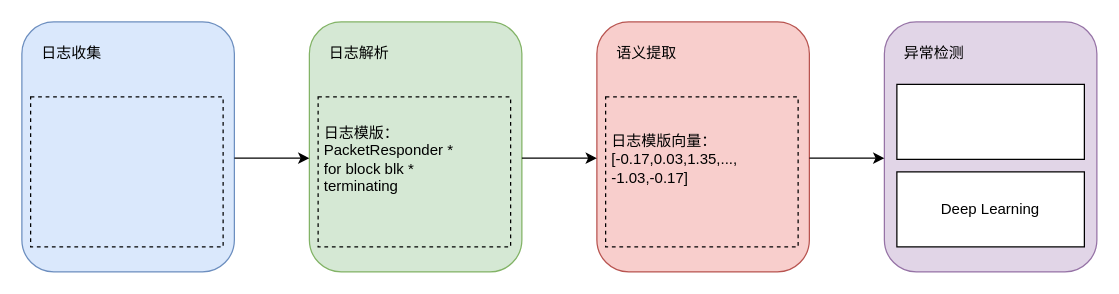
The diagram is 1119 pixels wide and 294 high, and some of its shapes have lost their labels. The shapes that lost their labels are listed below. From the top down, each one's box as (x1, y1, x2, y2) in pixels, then its label:
(896, 83, 1084, 159): Machine Learning
(29, 96, 223, 247): 原始日志：PacketResponder 2 for block blk -16908999687919862906 terminating
